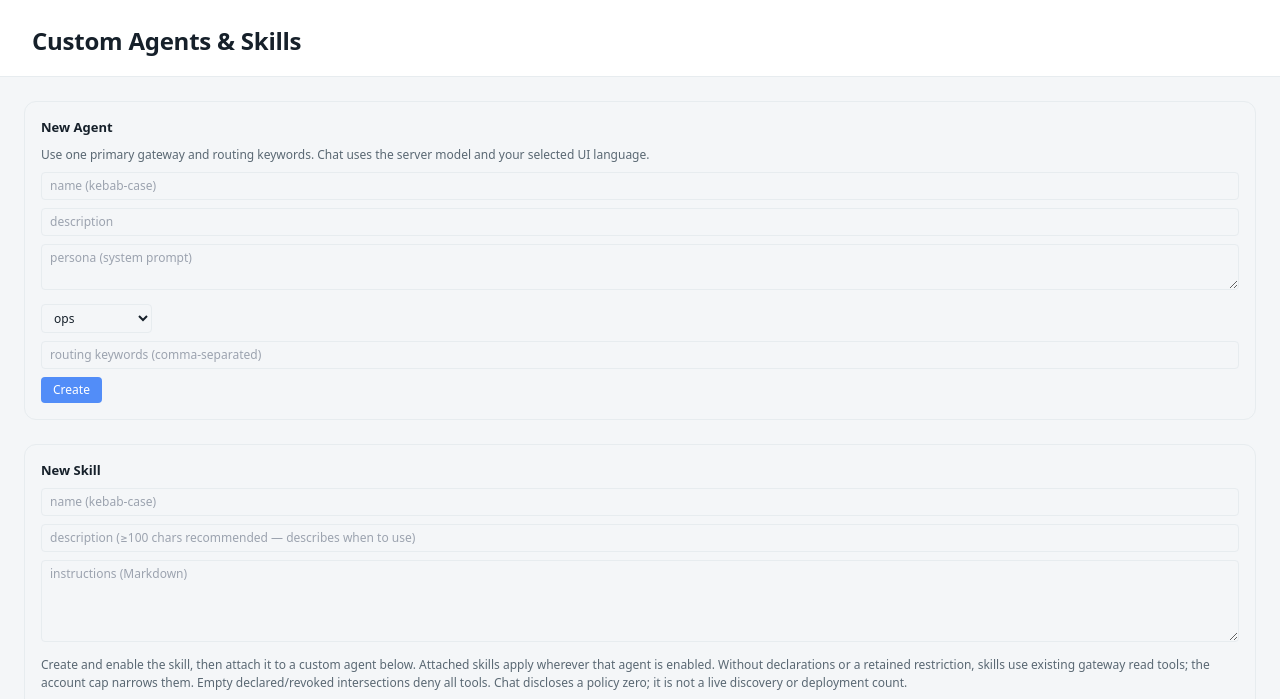
Test: custom agent registration › explains reserved agent names in en before submission
Type "auto" into the field with placeholder "name (kebab-case)" below "New Agent". click: (640, 186)
box: [41,172,1239,200]
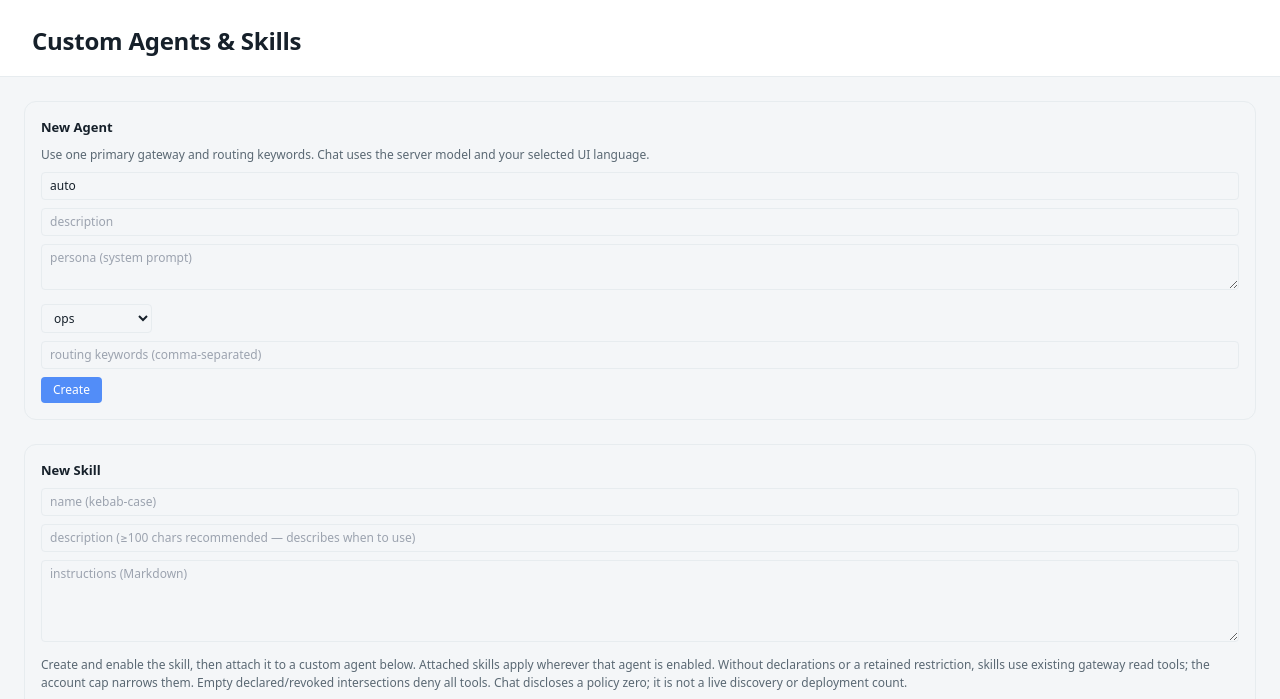
Click the button "Create". click: (71, 390)
box: [41,376,102,402]
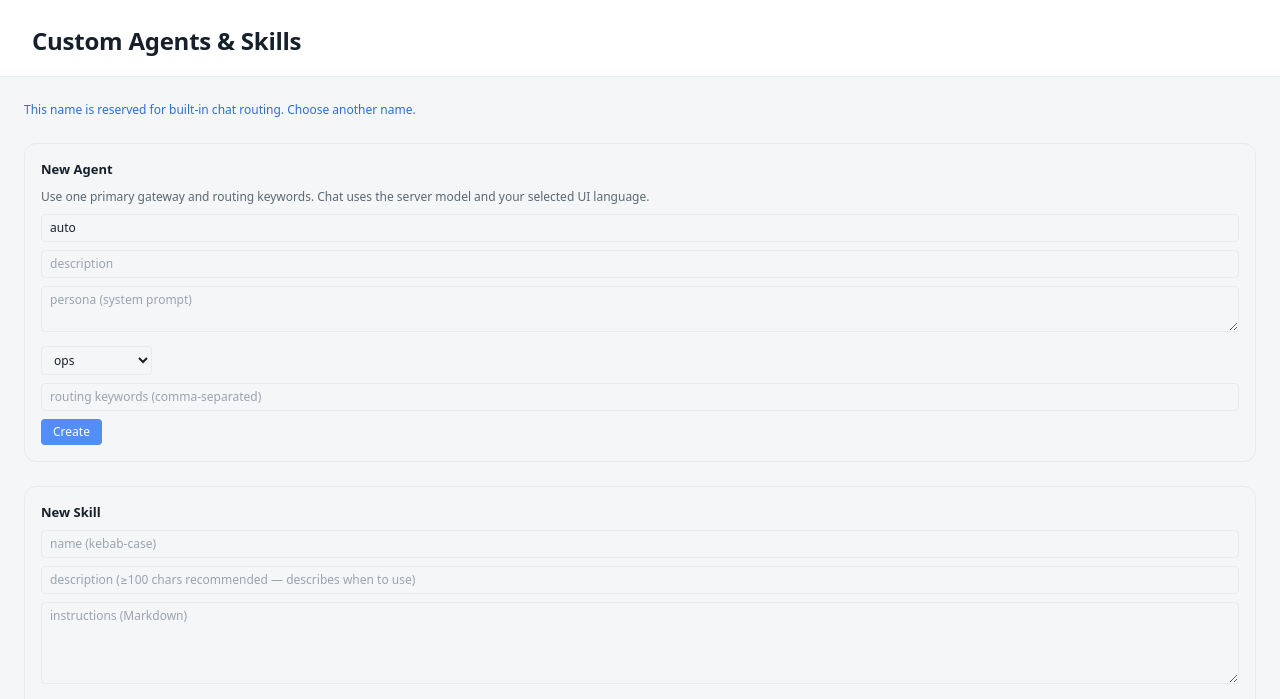
Result: the text "This name is reserved for built-in chat routing. Choose another name." is shown at [24,101,416,118]
